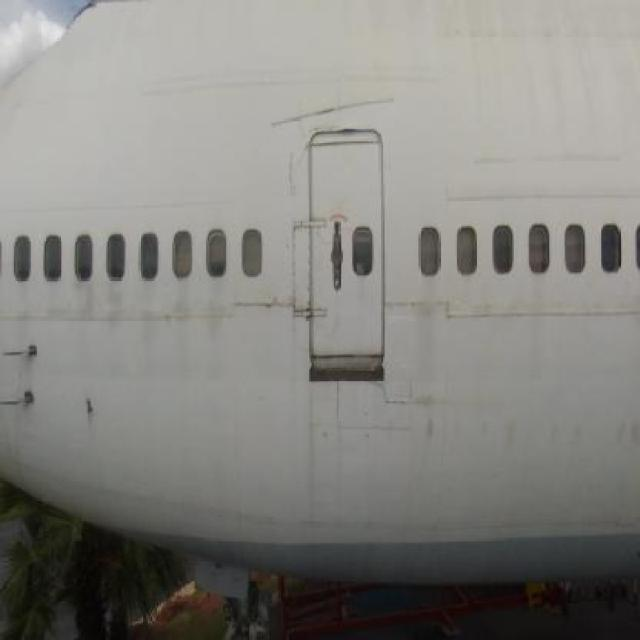Missing-Rivet: (291, 206, 314, 326)
Scartch: (264, 90, 398, 127), (228, 293, 288, 321)
